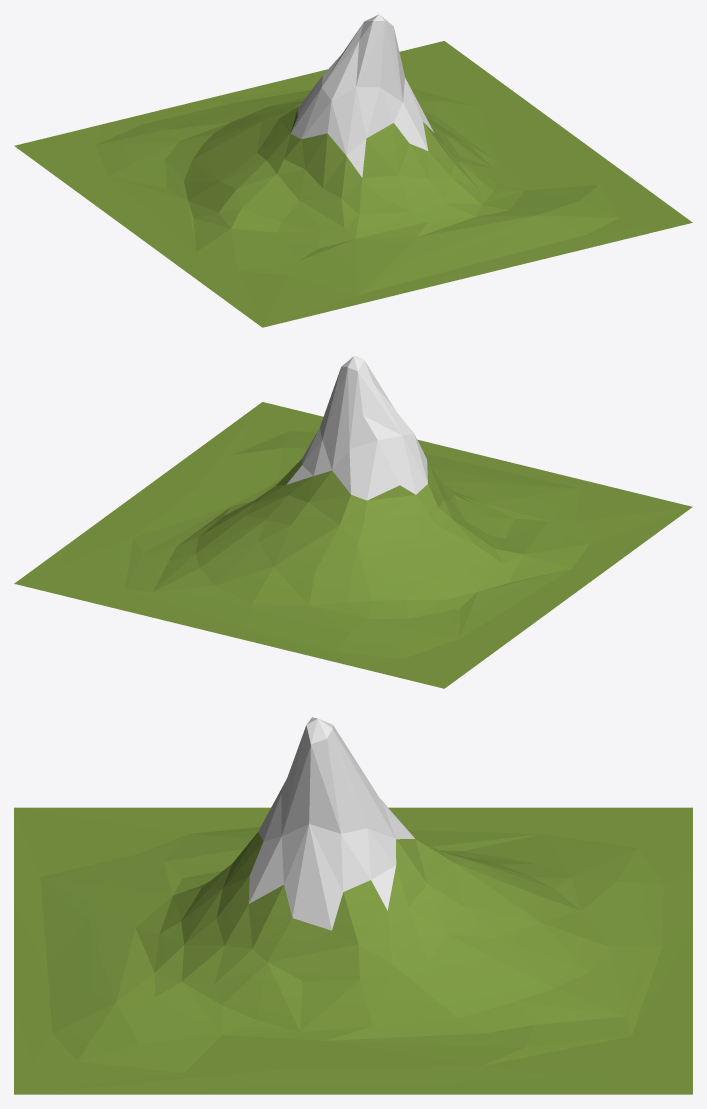
Rendered from Mesh_Landscape_Terrain_05.FBX.
The picture shows the model from 3 angles, top to bottom: view 1: azimuth 30°, elevation 25°; view 2: azimuth 150°, elevation 25°; view 3: azimuth 270°, elevation 25°; orthographic projection. The views are drawn at different scales.
Parts seen in each view (by area): view 1: Mesh_Landscape_Terrain_05; view 2: Mesh_Landscape_Terrain_05; view 3: Mesh_Landscape_Terrain_05.
Part boxes in pixels (x1,y1,x2,y2): Mesh_Landscape_Terrain_05: (14, 14, 692, 327); Mesh_Landscape_Terrain_05: (14, 356, 692, 688); Mesh_Landscape_Terrain_05: (14, 717, 692, 1094).
Bounding box in the file's own units: 12800 × 12800 × 5048.
